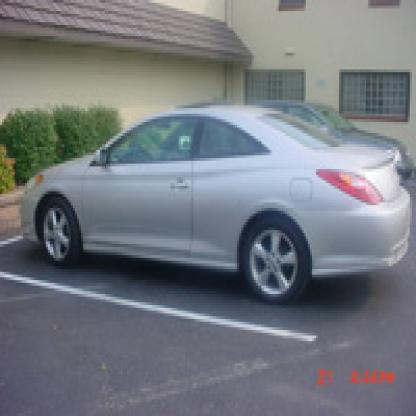car: (15, 97, 416, 309)
